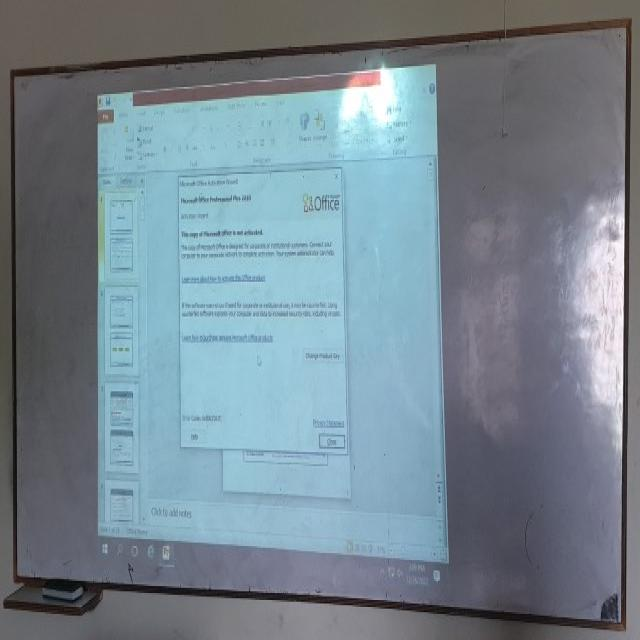Slide: (96, 66, 451, 584)
White-board: (8, 27, 631, 628)
